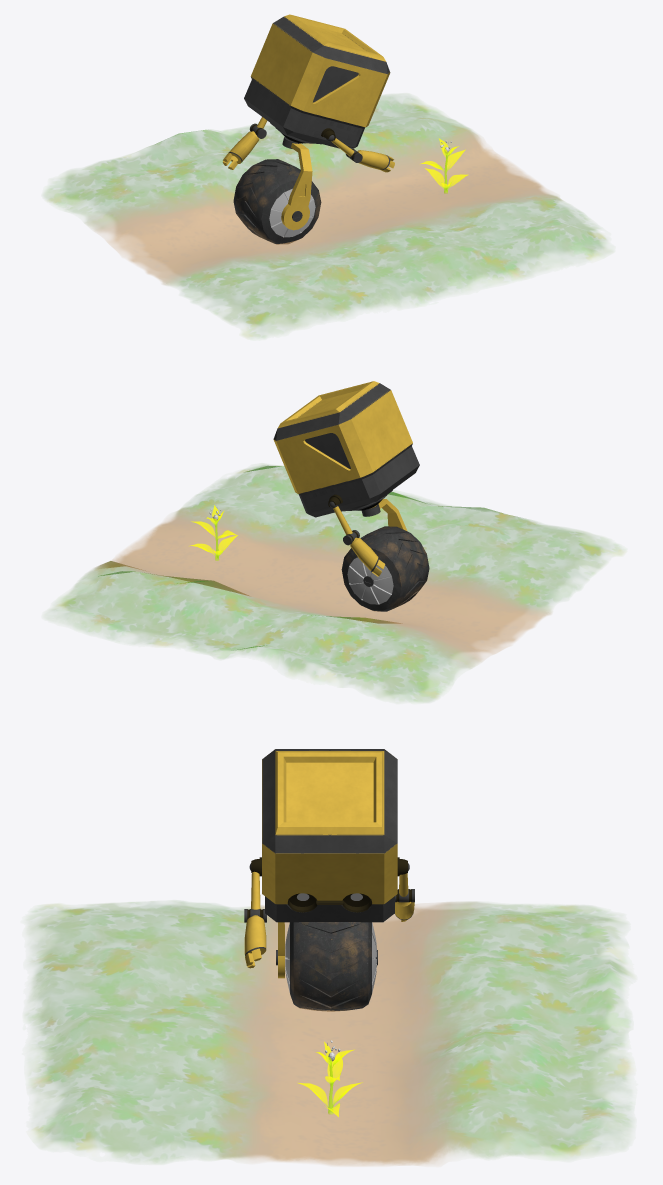
File: Low_poly_Robot.glb
The picture shows the model from 3 angles, top to bottom: view 1: azimuth 30°, elevation 25°; view 2: azimuth 150°, elevation 25°; view 3: azimuth 270°, elevation 25°; orthographic projection. The views are drawn at different scales.
Parts seen in each view (by area): view 1: Ground_Ground_0, Head_YELLOW_0, Tyre_RBR_0, Link_YELLOW_0, Wheel_WHITE_0, Plant_Leaf_0, LHR_YELLOW_0, LHL_YELLOW_0; view 2: Ground_Ground_0, Head_YELLOW_0, Tyre_RBR_0, Wheel_WHITE_0, Plant_Leaf_0, LHR_YELLOW_0, Link_YELLOW_0; view 3: Ground_Ground_0, Head_YELLOW_0, Tyre_RBR_0, Plant_Leaf_0, LHL_YELLOW_0.
Part boxes in pixels (box(x1,y1,x2,y2)): Ground_Ground_0: box(45, 96, 605, 336); Head_YELLOW_0: box(244, 14, 390, 148); Tyre_RBR_0: box(233, 159, 321, 244); Link_YELLOW_0: box(281, 137, 312, 230); Wheel_WHITE_0: box(269, 188, 315, 237); Plant_Leaf_0: box(420, 138, 468, 193); LHR_YELLOW_0: box(222, 131, 259, 169); LHL_YELLOW_0: box(357, 150, 394, 172); Ground_Ground_0: box(52, 465, 622, 701); Head_YELLOW_0: box(273, 381, 419, 517); Tyre_RBR_0: box(341, 526, 429, 611); Wheel_WHITE_0: box(347, 557, 393, 604); Plant_Leaf_0: box(189, 505, 237, 560); LHR_YELLOW_0: box(350, 537, 385, 576); Link_YELLOW_0: box(361, 499, 407, 531); Ground_Ground_0: box(29, 902, 629, 1165); Head_YELLOW_0: box(251, 749, 407, 922); Tyre_RBR_0: box(290, 922, 371, 1011); Plant_Leaf_0: box(298, 1041, 362, 1116); LHL_YELLOW_0: box(244, 915, 266, 968).
Size of the model in its own units: 30.56 by 14.65 by 30.64.
Materials: 6 (4 with a texture image).
